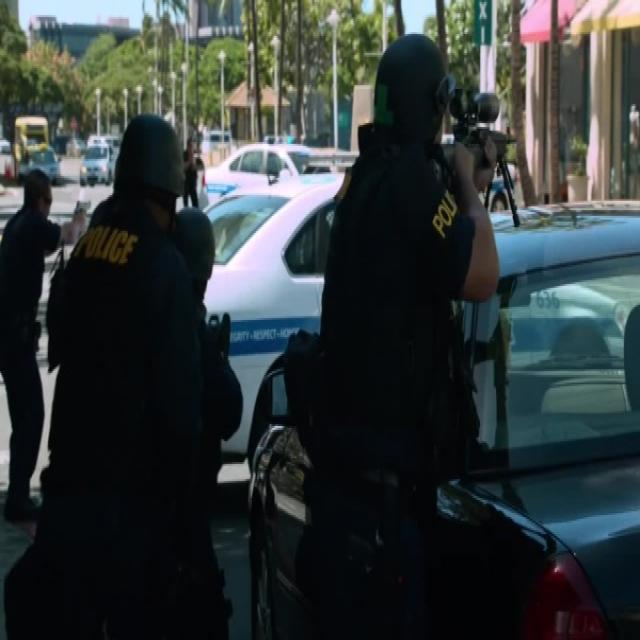rifle: (445, 86, 520, 245)
